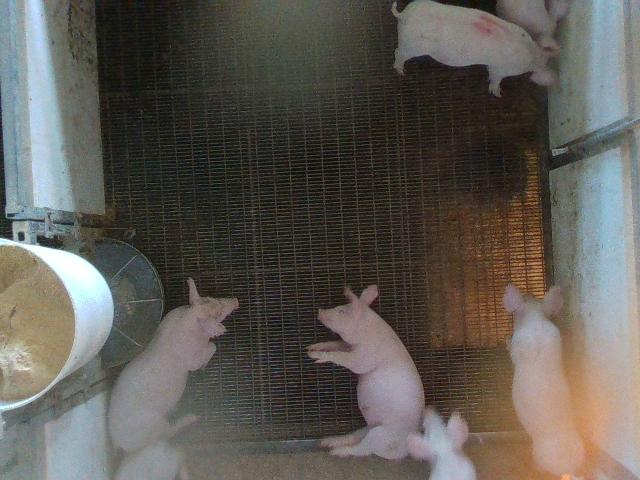pig-1: (308, 287, 425, 459)
pig-4: (391, 0, 556, 96)
